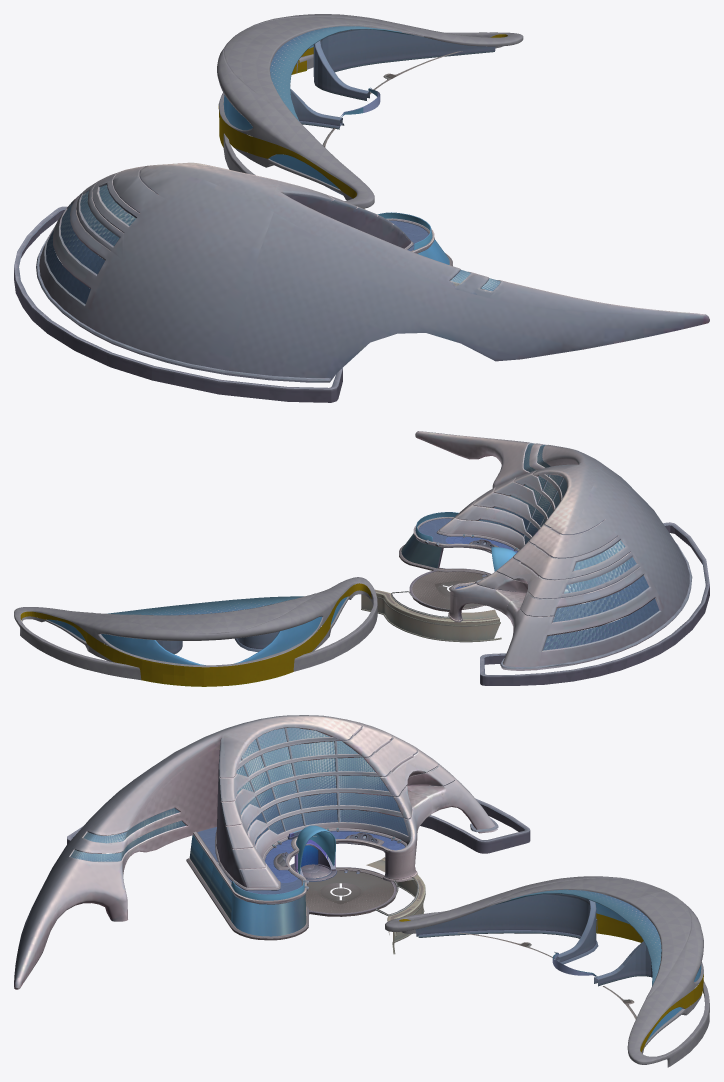
The model's file is pref_sm_4v4pointbake_WSJ_CSD_R_lv0.fbx.
3 views of the same model, one above another, from view 1: azimuth 30°, elevation 25°; view 2: azimuth 150°, elevation 25°; view 3: azimuth 270°, elevation 25° (orthographic). The views are drawn at different scales.
Parts seen in each view (by area): view 1: sm_4v4pointbake_WSJ_CSD_R_i_lv0, sm_4v4pointbake_WSJ_CSD_R_d_lv0, sm_4v4pointbake_WSJ_CSD_R_c_lv0, sm_4v4pointbake_WSJ_CSD_R_h_lv0, sm_4v4pointbake_WSJ_CSD_R_b_lv0; view 2: sm_4v4pointbake_WSJ_CSD_R_i_lv0, sm_4v4pointbake_WSJ_CSD_R_d_lv0, sm_4v4pointbake_WSJ_CSD_R_h_lv0, sm_4v4pointbake_WSJ_CSD_R_c_lv0, sm_4v4pointbake_WSJ_CSD_R_b_lv0, sm_4v4pointbake_WSJ_CSD_R_a_lv0, sm_4v4pointbake_WSJ_CSD_R_f_lv0; view 3: sm_4v4pointbake_WSJ_CSD_R_i_lv0, sm_4v4pointbake_WSJ_CSD_R_h_lv0, sm_4v4pointbake_WSJ_CSD_R_d_lv0, sm_4v4pointbake_WSJ_CSD_R_c_lv0, sm_4v4pointbake_WSJ_CSD_R_f_lv0, sm_4v4pointbake_WSJ_CSD_R_b_lv0, sm_4v4pointbake_WSJ_CSD_R_a_lv0.
Boxes of the visible parts, x1,y1,x2,y2 form: sm_4v4pointbake_WSJ_CSD_R_i_lv0: (14,162,709,402); sm_4v4pointbake_WSJ_CSD_R_d_lv0: (217,14,523,208); sm_4v4pointbake_WSJ_CSD_R_c_lv0: (218,29,507,198); sm_4v4pointbake_WSJ_CSD_R_h_lv0: (46,185,500,304); sm_4v4pointbake_WSJ_CSD_R_b_lv0: (223,26,413,188); sm_4v4pointbake_WSJ_CSD_R_i_lv0: (399,431,709,685); sm_4v4pointbake_WSJ_CSD_R_d_lv0: (14,577,377,679); sm_4v4pointbake_WSJ_CSD_R_h_lv0: (401,443,659,650); sm_4v4pointbake_WSJ_CSD_R_c_lv0: (20,583,371,686); sm_4v4pointbake_WSJ_CSD_R_b_lv0: (47,596,347,665); sm_4v4pointbake_WSJ_CSD_R_a_lv0: (361,589,501,642); sm_4v4pointbake_WSJ_CSD_R_f_lv0: (412,571,487,609); sm_4v4pointbake_WSJ_CSD_R_i_lv0: (14,715,530,989); sm_4v4pointbake_WSJ_CSD_R_h_lv0: (70,727,408,936); sm_4v4pointbake_WSJ_CSD_R_d_lv0: (385,876,709,1067); sm_4v4pointbake_WSJ_CSD_R_c_lv0: (399,893,703,1052); sm_4v4pointbake_WSJ_CSD_R_f_lv0: (305,871,393,913); sm_4v4pointbake_WSJ_CSD_R_b_lv0: (495,889,701,1042); sm_4v4pointbake_WSJ_CSD_R_a_lv0: (366,857,425,954).
Bounding box in the file's own units: 74.09 × 17.41 × 75.66.
